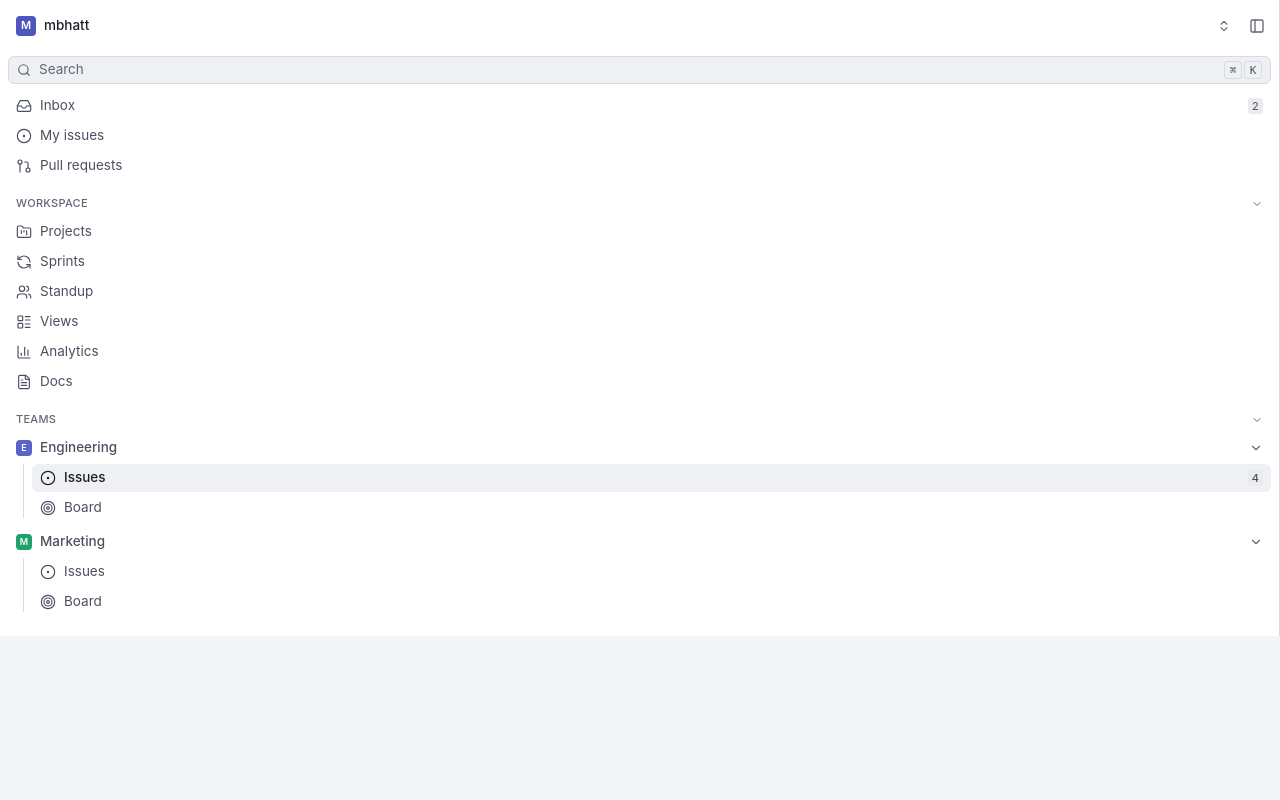
Test: Sidebar › collapses a section group from its header
expect the link "Projects" is shown: met, box [16, 223, 92, 240]
What coordinates should you click on to do the following:
click the button "Workspace"
I would click on:
 (52, 203)
Its box is [8, 192, 1271, 216].
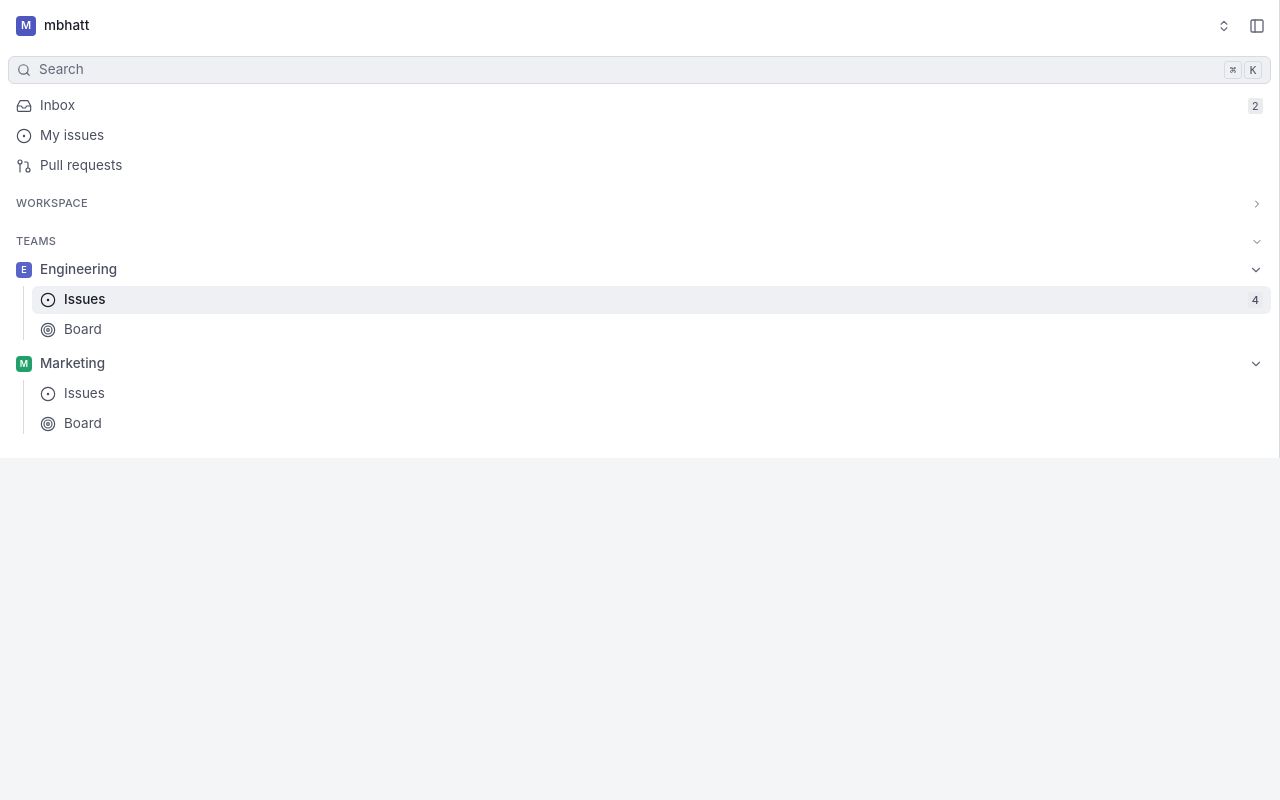
expect the button "Workspace" is collapsed: met, box [8, 192, 1271, 216]
